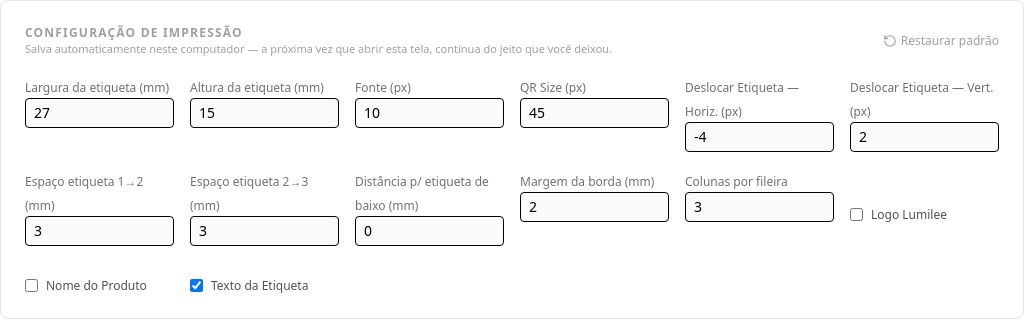
Test: LabelPrintConfigPanel › reverte para o último valor válido ao sair do campo vazio
Clear the field labelled "Deslocar Etiqueta — Vert. (px)" at (924, 136), box [850,122,999,152]
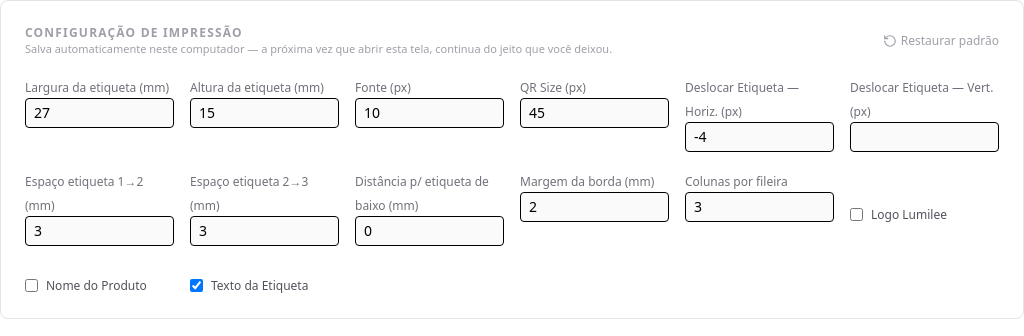
Leave the field labelled "Deslocar Etiqueta — Vert. (px)", box [850,122,999,152]
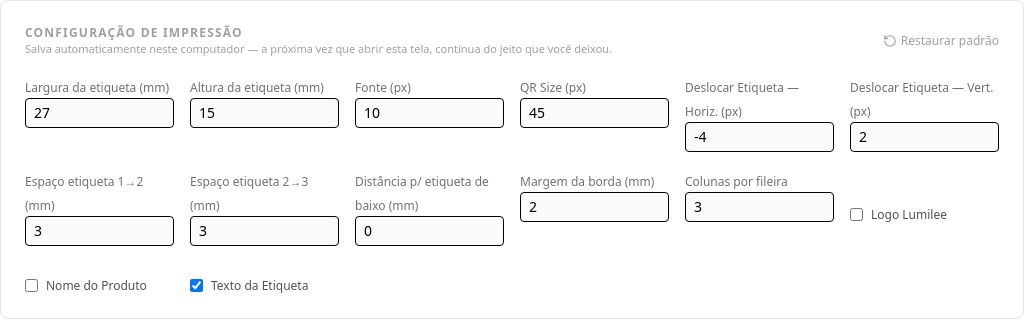
Now the field labelled "Deslocar Etiqueta — Vert. (px)" holds "2", box [850,122,999,152]
